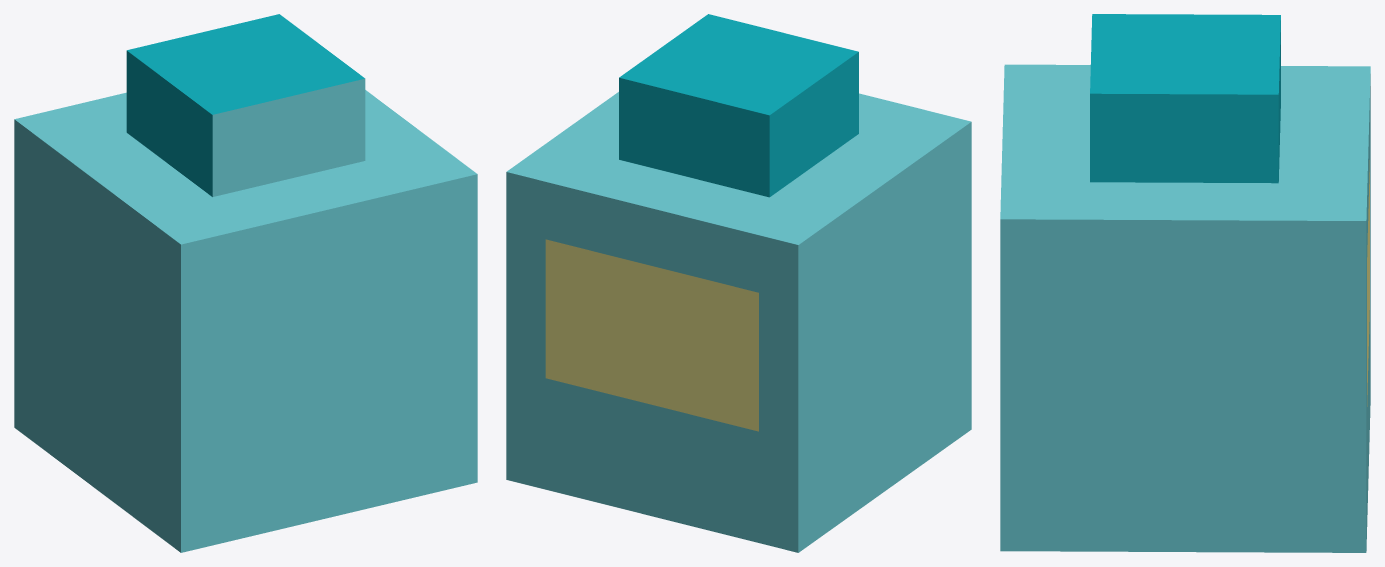
File: Botella05.fbx
The picture shows the model from 3 angles, left to right: view 1: azimuth 30°, elevation 25°; view 2: azimuth 150°, elevation 25°; view 3: azimuth 270°, elevation 25°; orthographic projection. The views are drawn at different scales.
Parts seen in each view (by area): view 1: Botella05; view 2: Botella05; view 3: Botella05.
Part boxes in pixels (x1,y1,x2,y2): Botella05: [14, 14, 477, 552]; Botella05: [506, 14, 971, 552]; Botella05: [1000, 14, 1370, 552].
Bounding box in the file's own units: 15.17 × 19 × 15.17.
